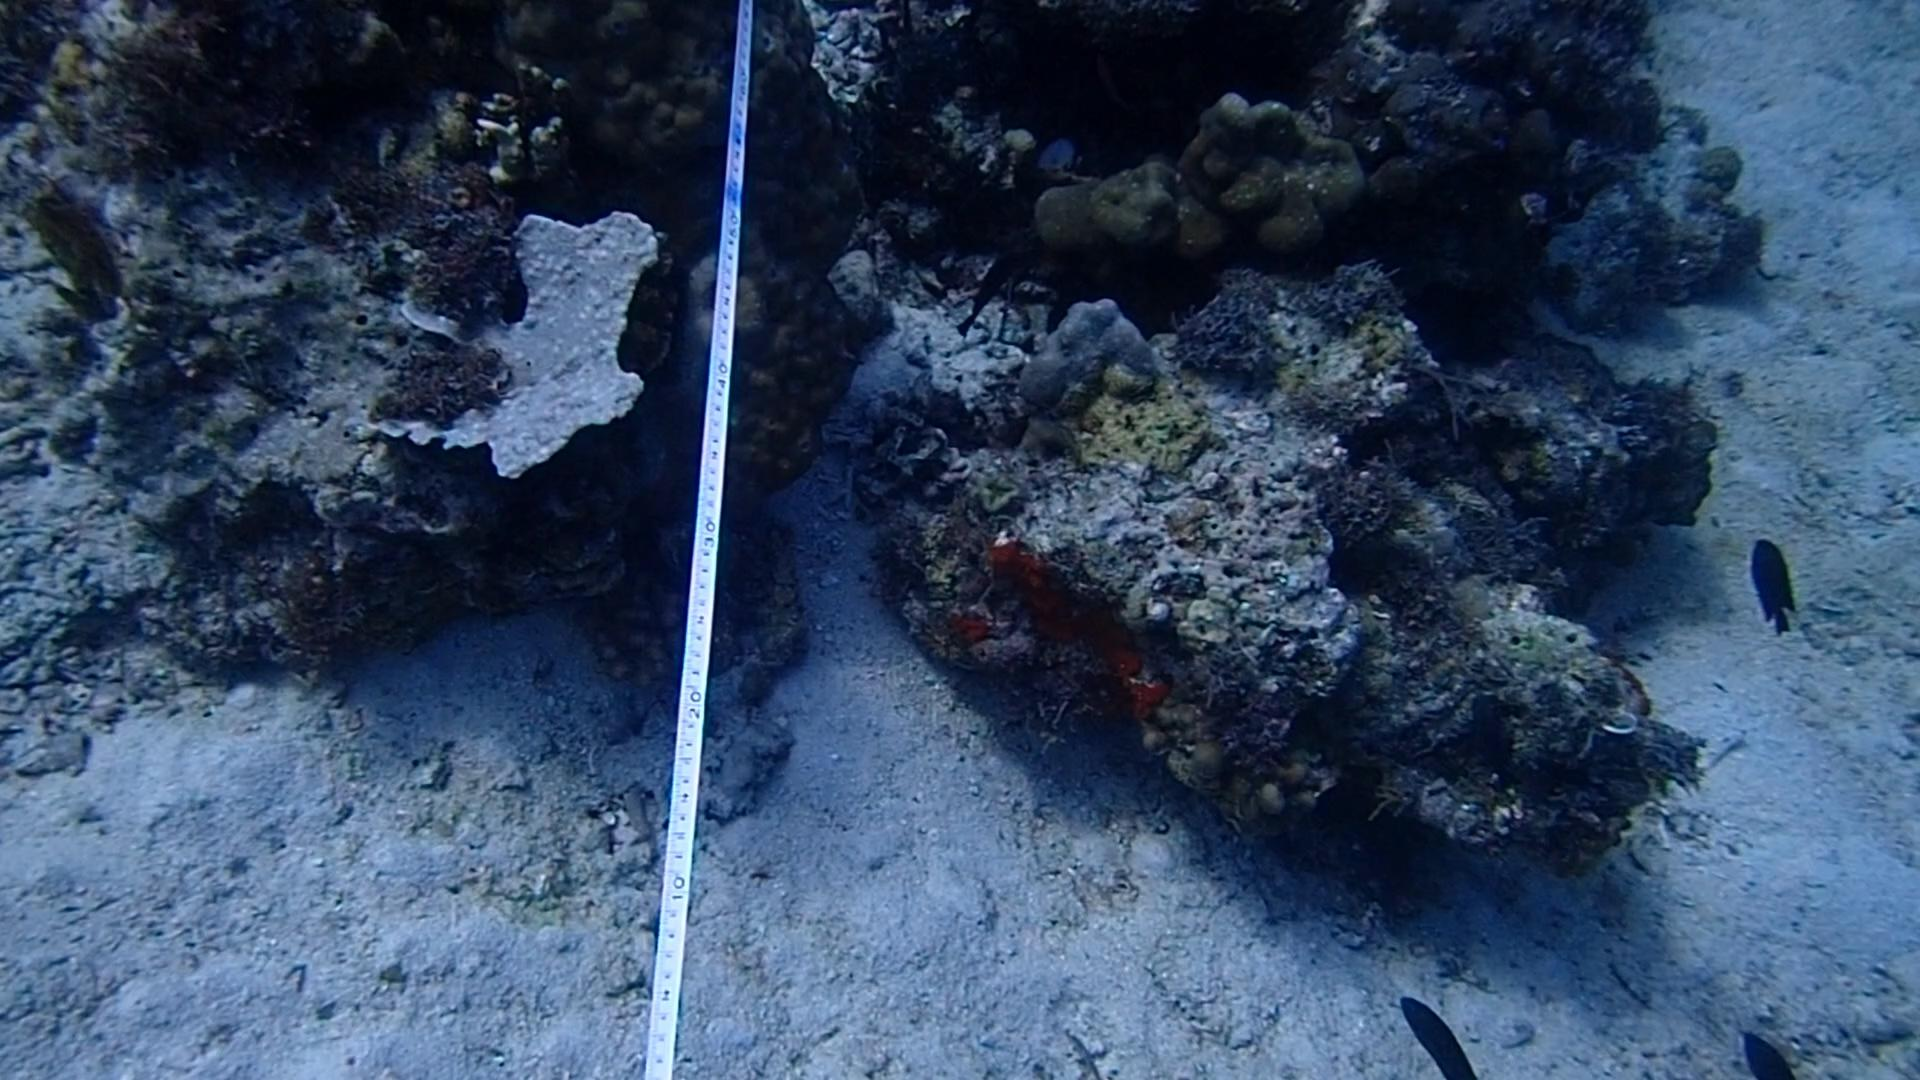Dark Fish: (1735, 527, 1805, 637), (1393, 992, 1476, 1080), (1724, 1025, 1788, 1080)
